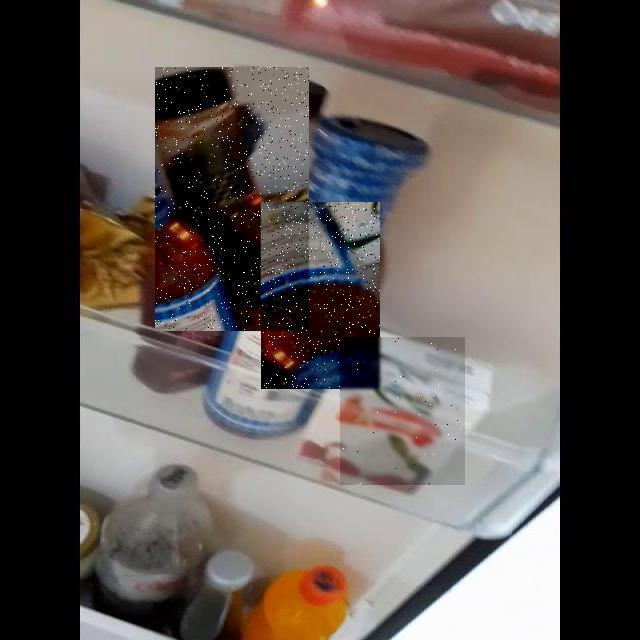Cheese: (340, 337, 465, 485)
Sauce: (155, 67, 309, 331), (261, 202, 380, 389)
